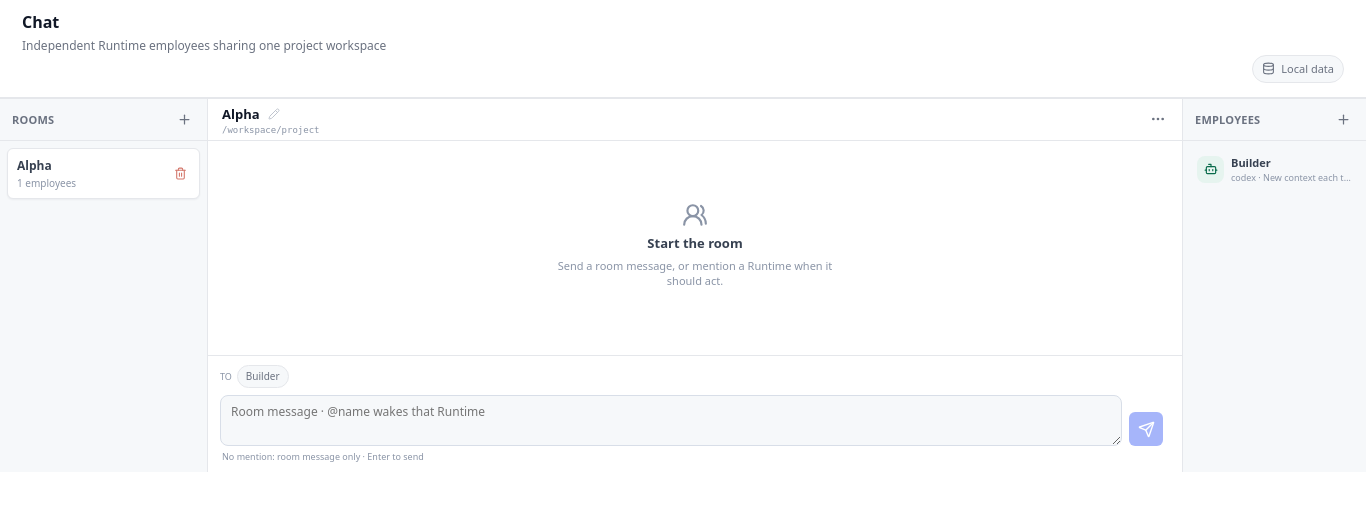
Test case: TeamChatPage rooms › does not clear a delete error when a pending room refresh later succeeds
Click the button named "Delete room “Alpha”". click: x=180, y=173
box: top-left (165, 158), bottom-right (195, 188)
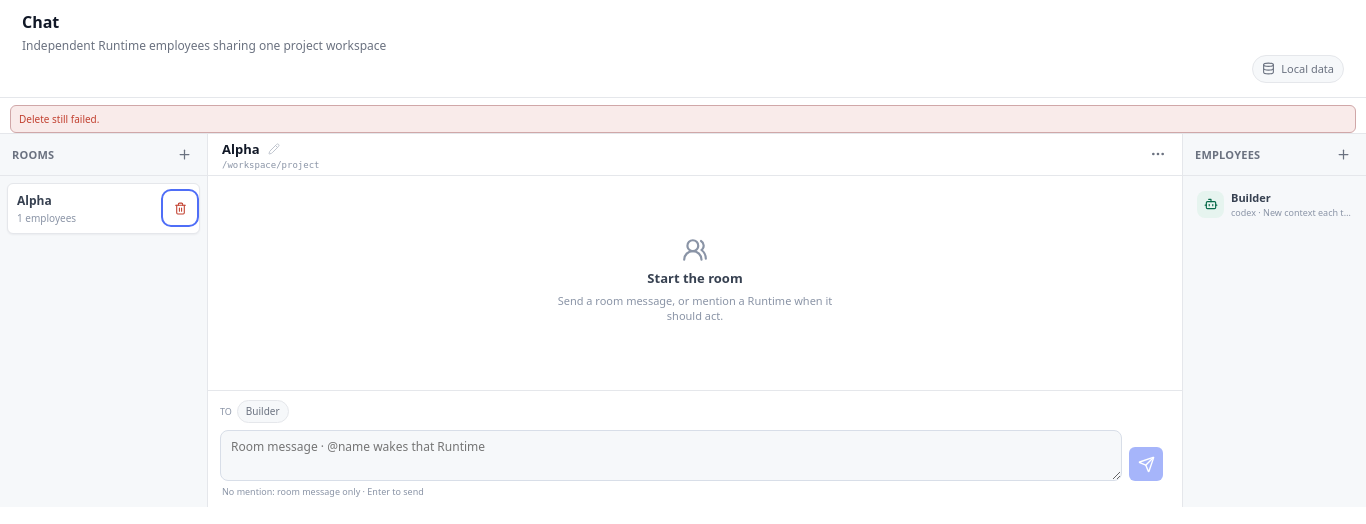
Expected: the message "Delete still failed." is shown, top-left (10, 105), bottom-right (1356, 133)
